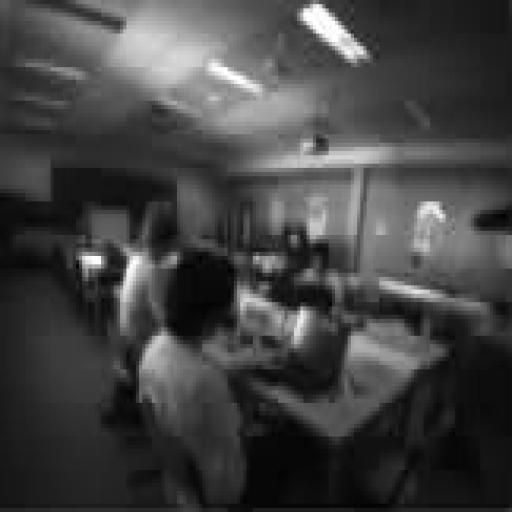human: (140, 248, 246, 503), (102, 202, 176, 423), (294, 240, 344, 306)
